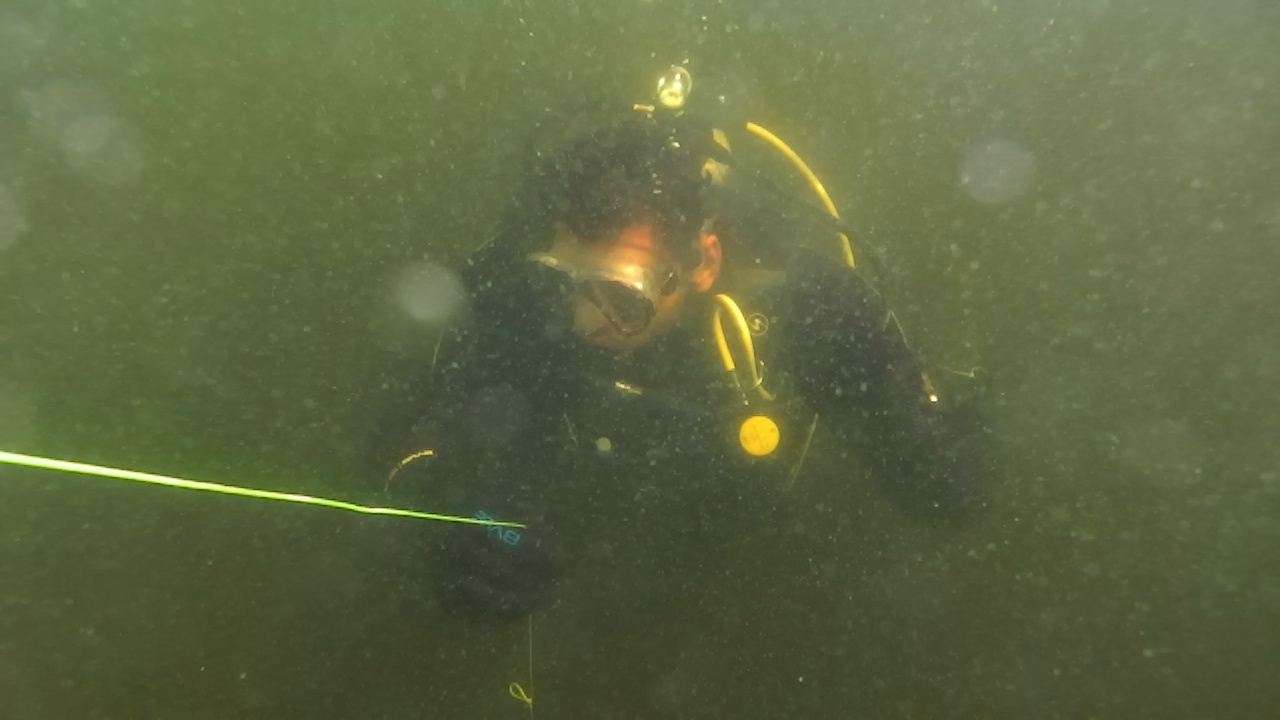Diver: (342, 64, 1032, 628)
Hand: (758, 244, 926, 412), (378, 470, 546, 622)
Head: (532, 100, 732, 362)
